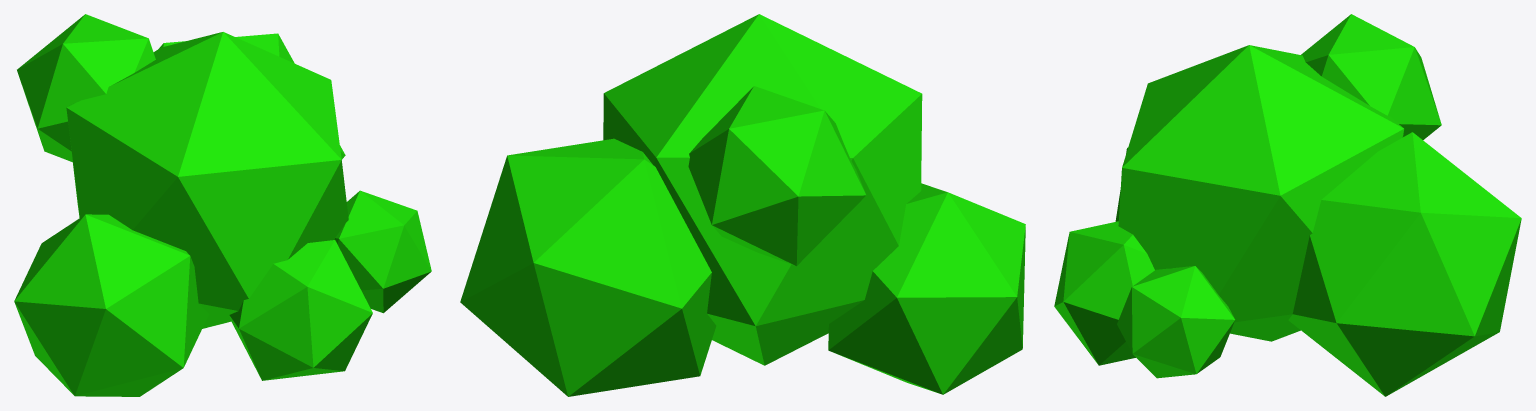
File: bush_Alive.fbx
3 views of the same model, side by side, from view 1: azimuth 30°, elevation 25°; view 2: azimuth 150°, elevation 25°; view 3: azimuth 270°, elevation 25° (orthographic). The views are drawn at different scales.
Parts seen in each view (by area): view 1: Tree_lp_11.001; view 2: Tree_lp_11.001; view 3: Tree_lp_11.001.
Part boxes in pixels (x1,y1,x2,y2): Tree_lp_11.001: (14, 14, 431, 396); Tree_lp_11.001: (460, 14, 1025, 396); Tree_lp_11.001: (1054, 14, 1521, 396).
Bounding box in the file's own units: 1852 × 1474 × 1933.
